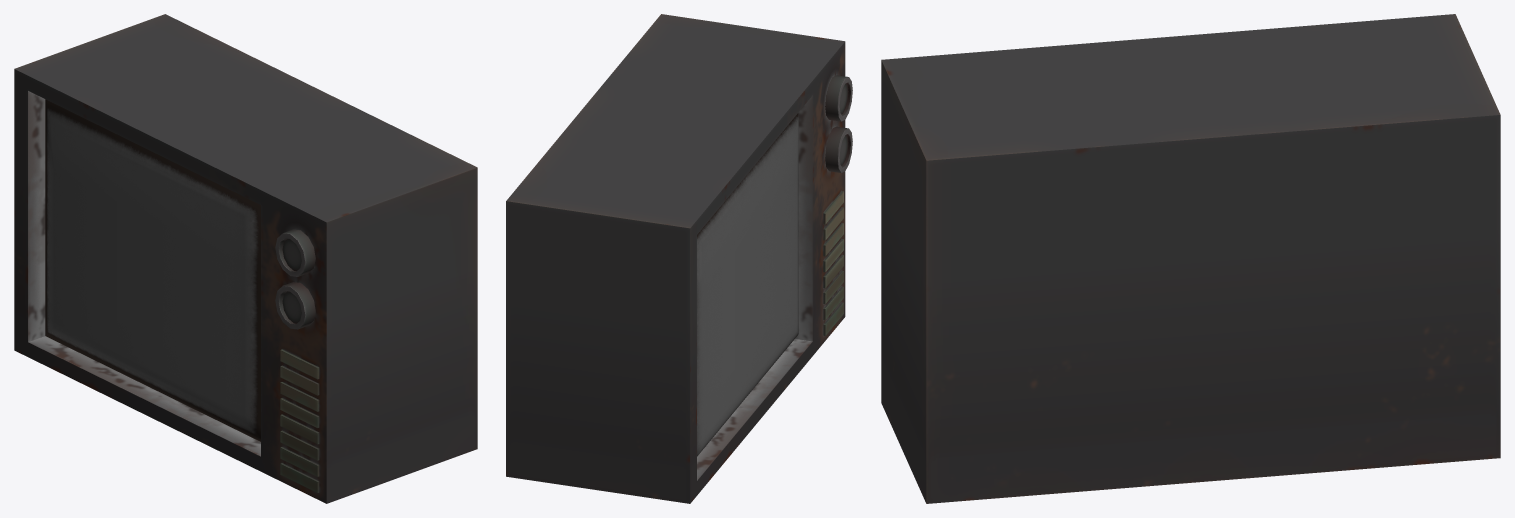
File: AslanHouse_TV.fbx
3 renders of one model, left to right at view 1: azimuth 30°, elevation 25°; view 2: azimuth 150°, elevation 25°; view 3: azimuth 270°, elevation 25°, orthographic. The views are drawn at different scales.
Parts seen in each view (by area): view 1: TV; view 2: TV; view 3: TV.
Part boxes in pixels (x1,y1,x2,y2): TV: (14,14,477,503); TV: (506,14,852,503); TV: (881,14,1500,503).
Size of the model in its own units: 90.3 by 98.52 by 161.
1 material, 1 textured.
